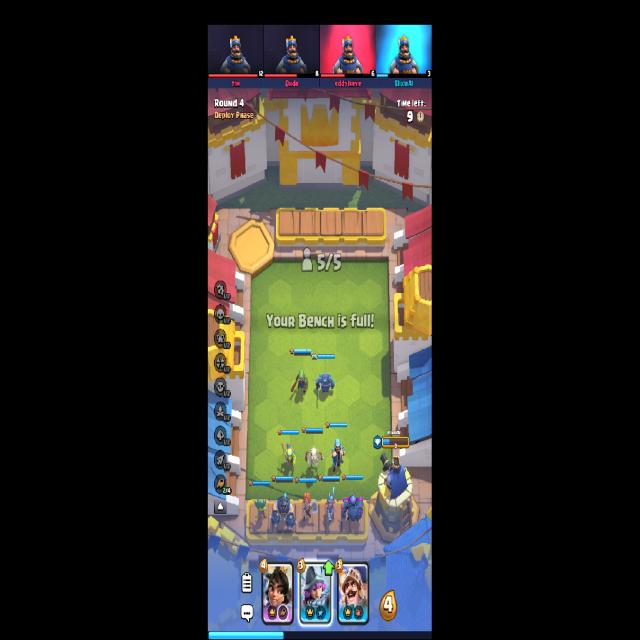bandit: (290, 368, 309, 396)
card_musketeer: (299, 559, 332, 627)
card_prince: (336, 561, 369, 625)
card_princess: (261, 560, 294, 624)
dart_goblin: (253, 498, 269, 524)
mega_knight: (272, 494, 296, 532)
mini_pekka: (314, 372, 336, 400)
musketeer: (325, 485, 336, 524)
pekka: (341, 493, 364, 525)
skeleton_dragon: (305, 445, 324, 469)
spear_goblin: (281, 442, 296, 466)
valkyrie: (302, 491, 317, 525)
wizard: (330, 438, 345, 473)
